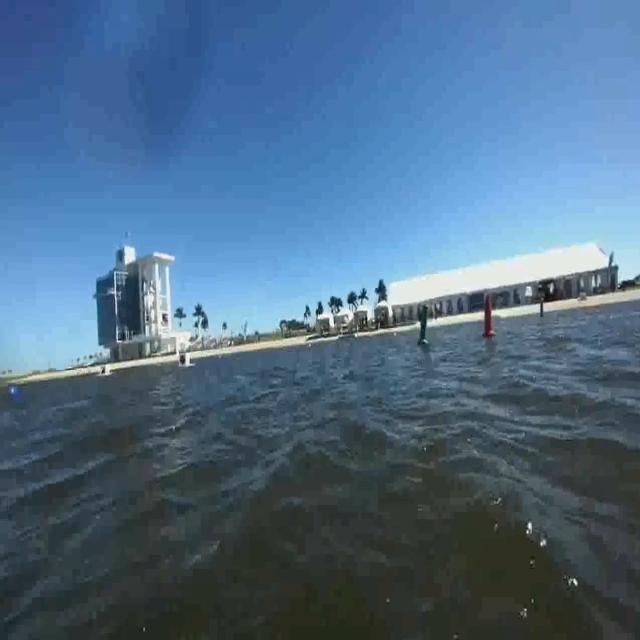blue-buoy: (7, 377, 19, 399)
green-column-buoy: (415, 296, 434, 352)
red-column-buoy: (482, 294, 497, 338)
